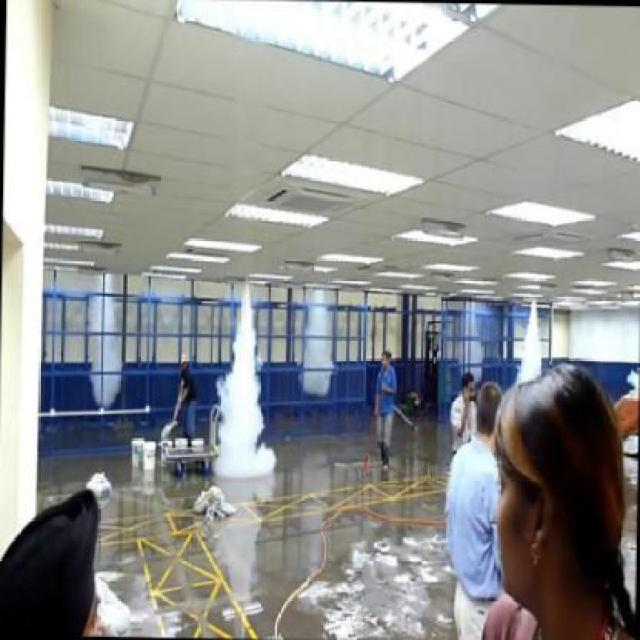fire: (213, 289, 278, 483), (514, 305, 548, 383)
